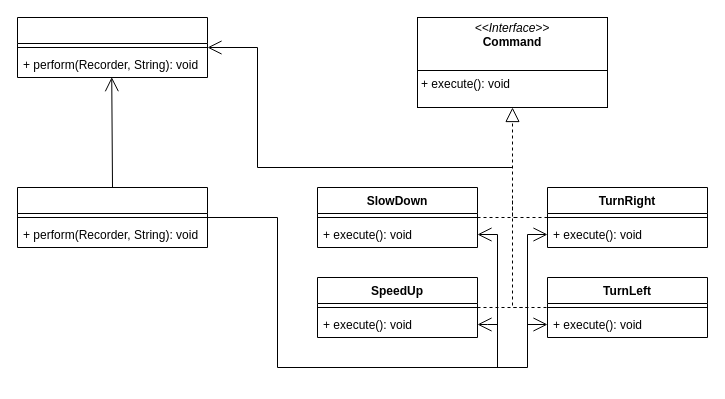
Image size: 725x399. Some labels were removed from this diagram. The box of each missing label's shape, as (x1, y1, x2, y2) in pixels:
Car: (16, 16, 208, 78)
CarGame: (16, 186, 208, 248)
